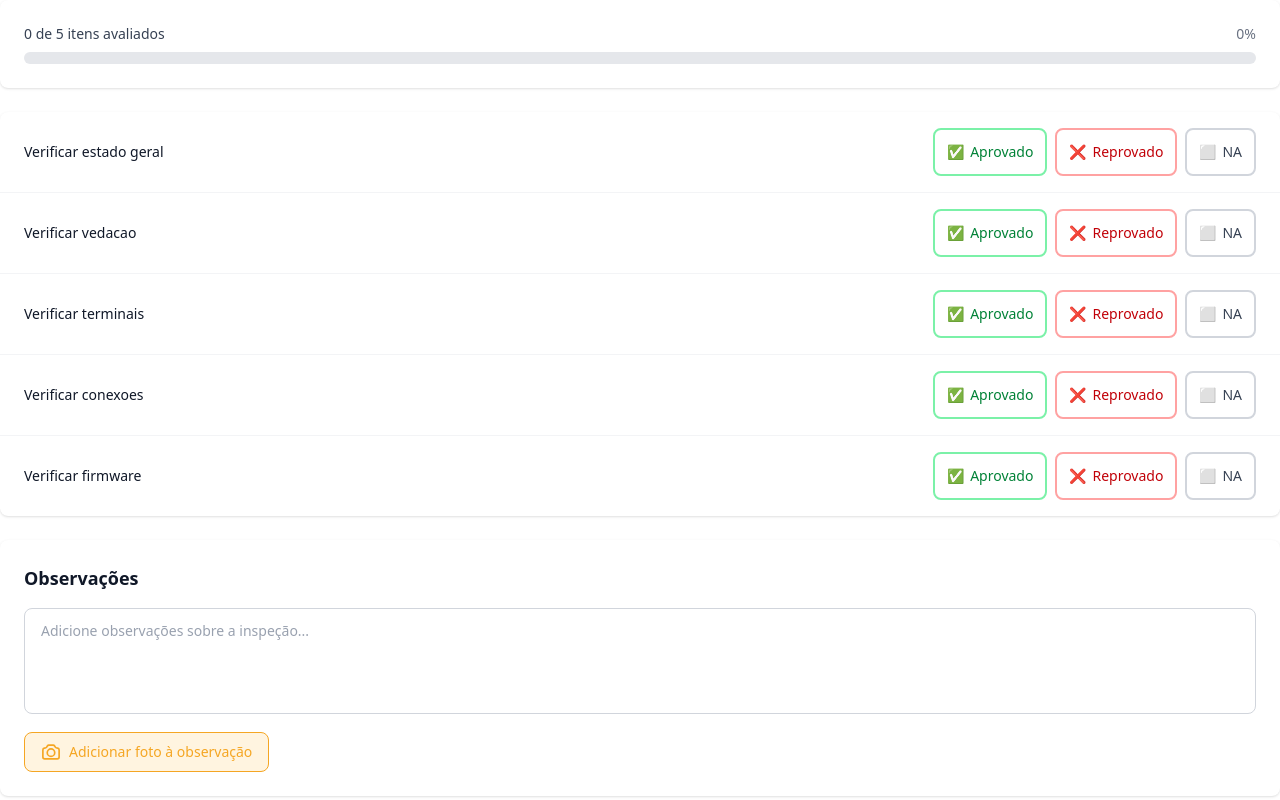
Test case: ChecklistForm - Progress Bar Updates › updates progress when items are evaluated
Check: the text "0 de 5 itens avaliados" is shown, box [24, 24, 165, 44]
Note: Approve first item
Click the button with aria-label "Aprovado -" at (990, 152), box [933, 128, 1048, 176]
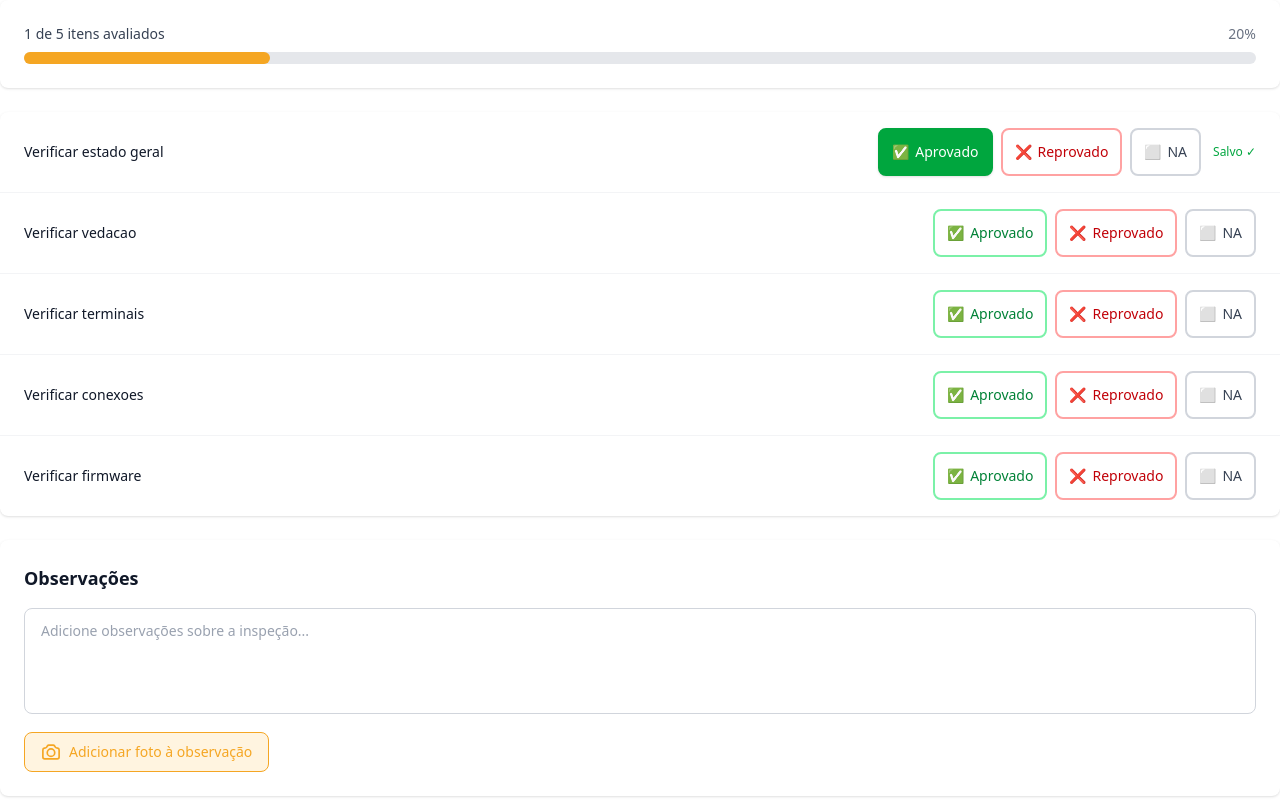
Check: the text "1 de 5 itens avaliados" is shown, box [24, 24, 165, 44]
Check: the text "20%" is shown, box [1228, 24, 1256, 44]
